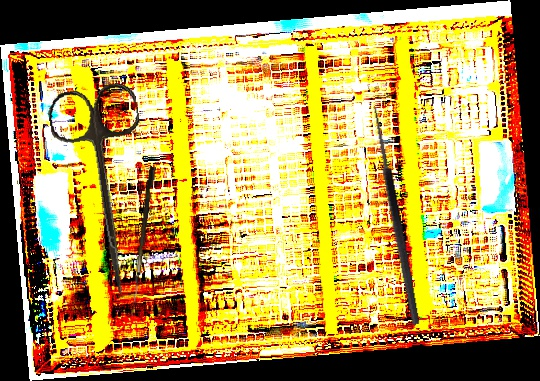Hook Surgical: (358, 105, 422, 328), (131, 165, 156, 318)
Iris Scissors: (45, 80, 169, 301)
